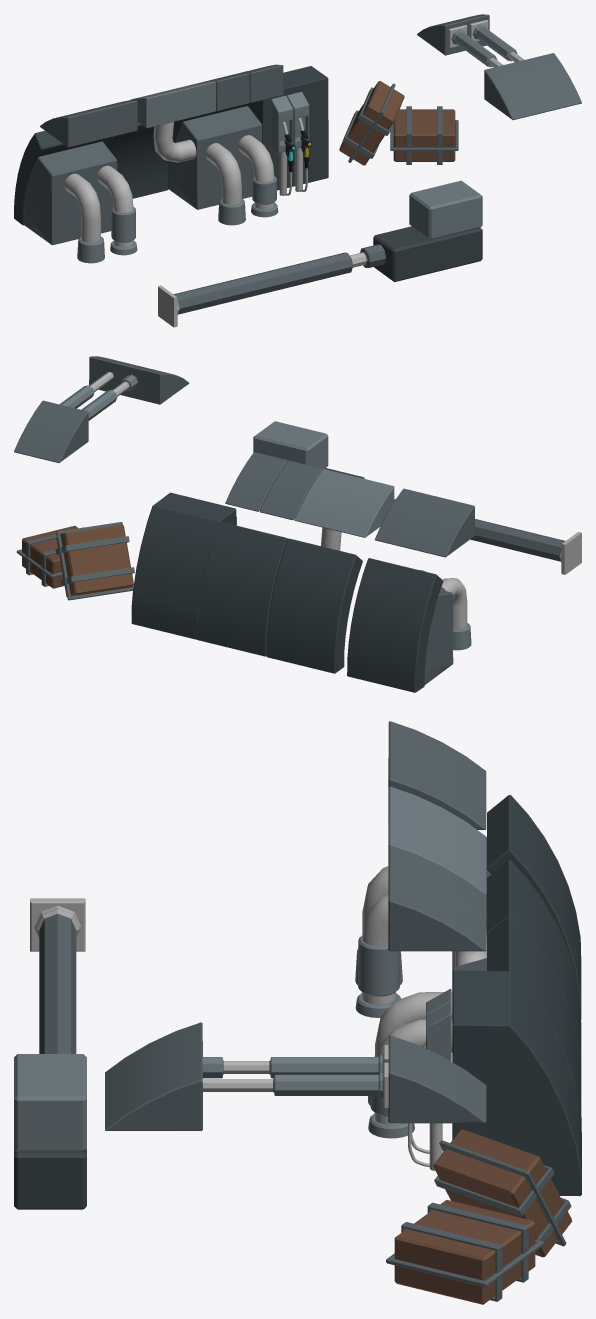
Rendered from engine(2).fbx.
3 views of the same model, one above another, from view 1: azimuth 30°, elevation 25°; view 2: azimuth 150°, elevation 25°; view 3: azimuth 270°, elevation 25° (orthographic). The views are drawn at different scales.
Visible parts, largest first — view 1: polySurface139, polySurface140, gauche1, polySurface138, module_etagere1, tuyaux, polySurface141, module_etagere2, polySurface131, polySurface136, polySurface132, polySurface145 (+13 smaller); view 2: polySurface141, polySurface131, polySurface137, polySurface135, polySurface136, polySurface132, polySurface149, polySurface144, gauche1, module_etagere2, polySurface138, polySurface133 (+9 smaller); view 3: polySurface141, polySurface138, polySurface145, module_etagere2, gauche1, polySurface144, polySurface149, polySurface136, polySurface137, polySurface132, polySurface134, polySurface131 (+14 smaller).
Part boxes in pixels (box(x1,y1,x2,y2)): polySurface139: box(24, 141, 117, 245); polySurface140: box(169, 106, 262, 209); gauche1: box(158, 244, 386, 327); polySurface138: box(484, 53, 581, 120); module_etagere1: box(373, 226, 482, 281); tuyaux: box(64, 165, 137, 263); polySurface141: box(248, 66, 328, 190); module_etagere2: box(409, 180, 482, 239); polySurface131: box(102, 120, 181, 198); polySurface136: box(40, 100, 137, 147); polySurface132: box(130, 81, 215, 128); polySurface145: box(393, 109, 455, 161); polySurface141: box(131, 492, 236, 639); polySurface131: box(266, 538, 362, 673); polySurface137: box(347, 558, 443, 692); polySurface135: box(198, 521, 287, 656); polySurface136: box(374, 488, 474, 557); polySurface132: box(294, 469, 394, 537); polySurface149: box(56, 524, 133, 596); polySurface144: box(14, 400, 88, 462); gauche1: box(394, 499, 581, 574); module_etagere2: box(253, 421, 328, 469); polySurface138: box(89, 356, 189, 404); polySurface133: box(260, 460, 322, 520); polySurface141: box(452, 970, 581, 1196); polySurface138: box(105, 1022, 202, 1130); polySurface145: box(394, 1200, 535, 1304); module_etagere2: box(14, 1054, 86, 1152); gauche1: box(30, 898, 85, 1053); polySurface144: box(388, 1035, 486, 1123); polySurface149: box(433, 1129, 572, 1257); polySurface136: box(388, 721, 486, 829); polySurface137: box(487, 795, 581, 1019); polySurface132: box(388, 786, 486, 894); polySurface134: box(388, 873, 486, 951); polySurface131: box(487, 860, 581, 1077).
Size of the model in its own units: 5.97 by 1.89 by 3.99.
